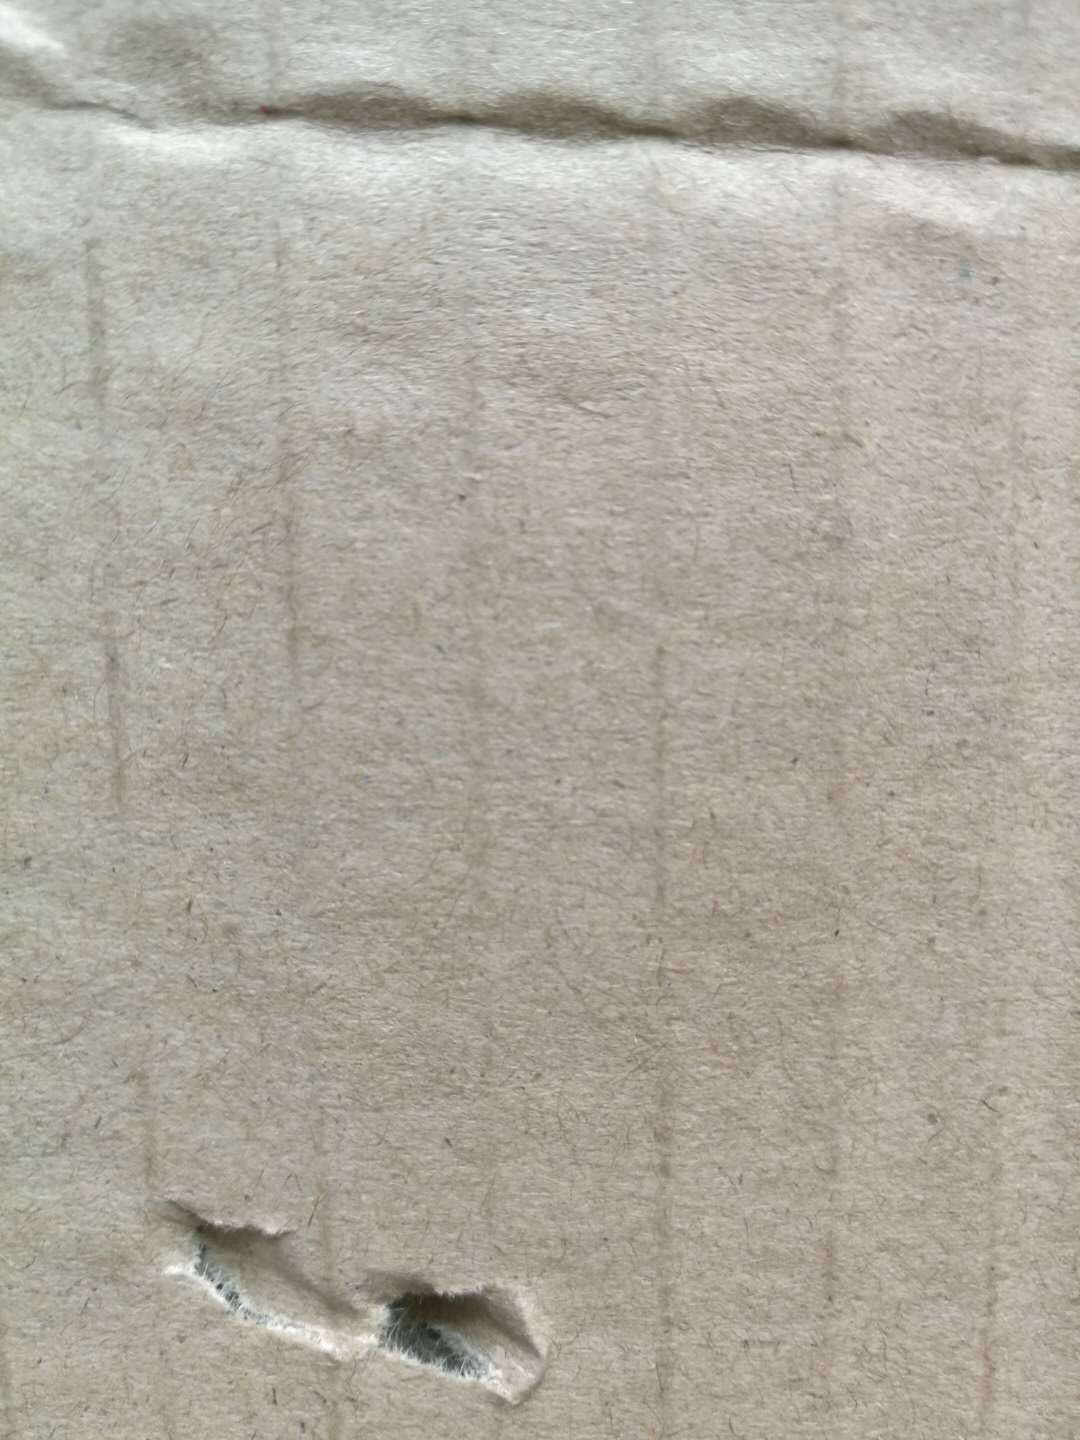defect: (5, 5, 1080, 249), (134, 1150, 582, 1422)
